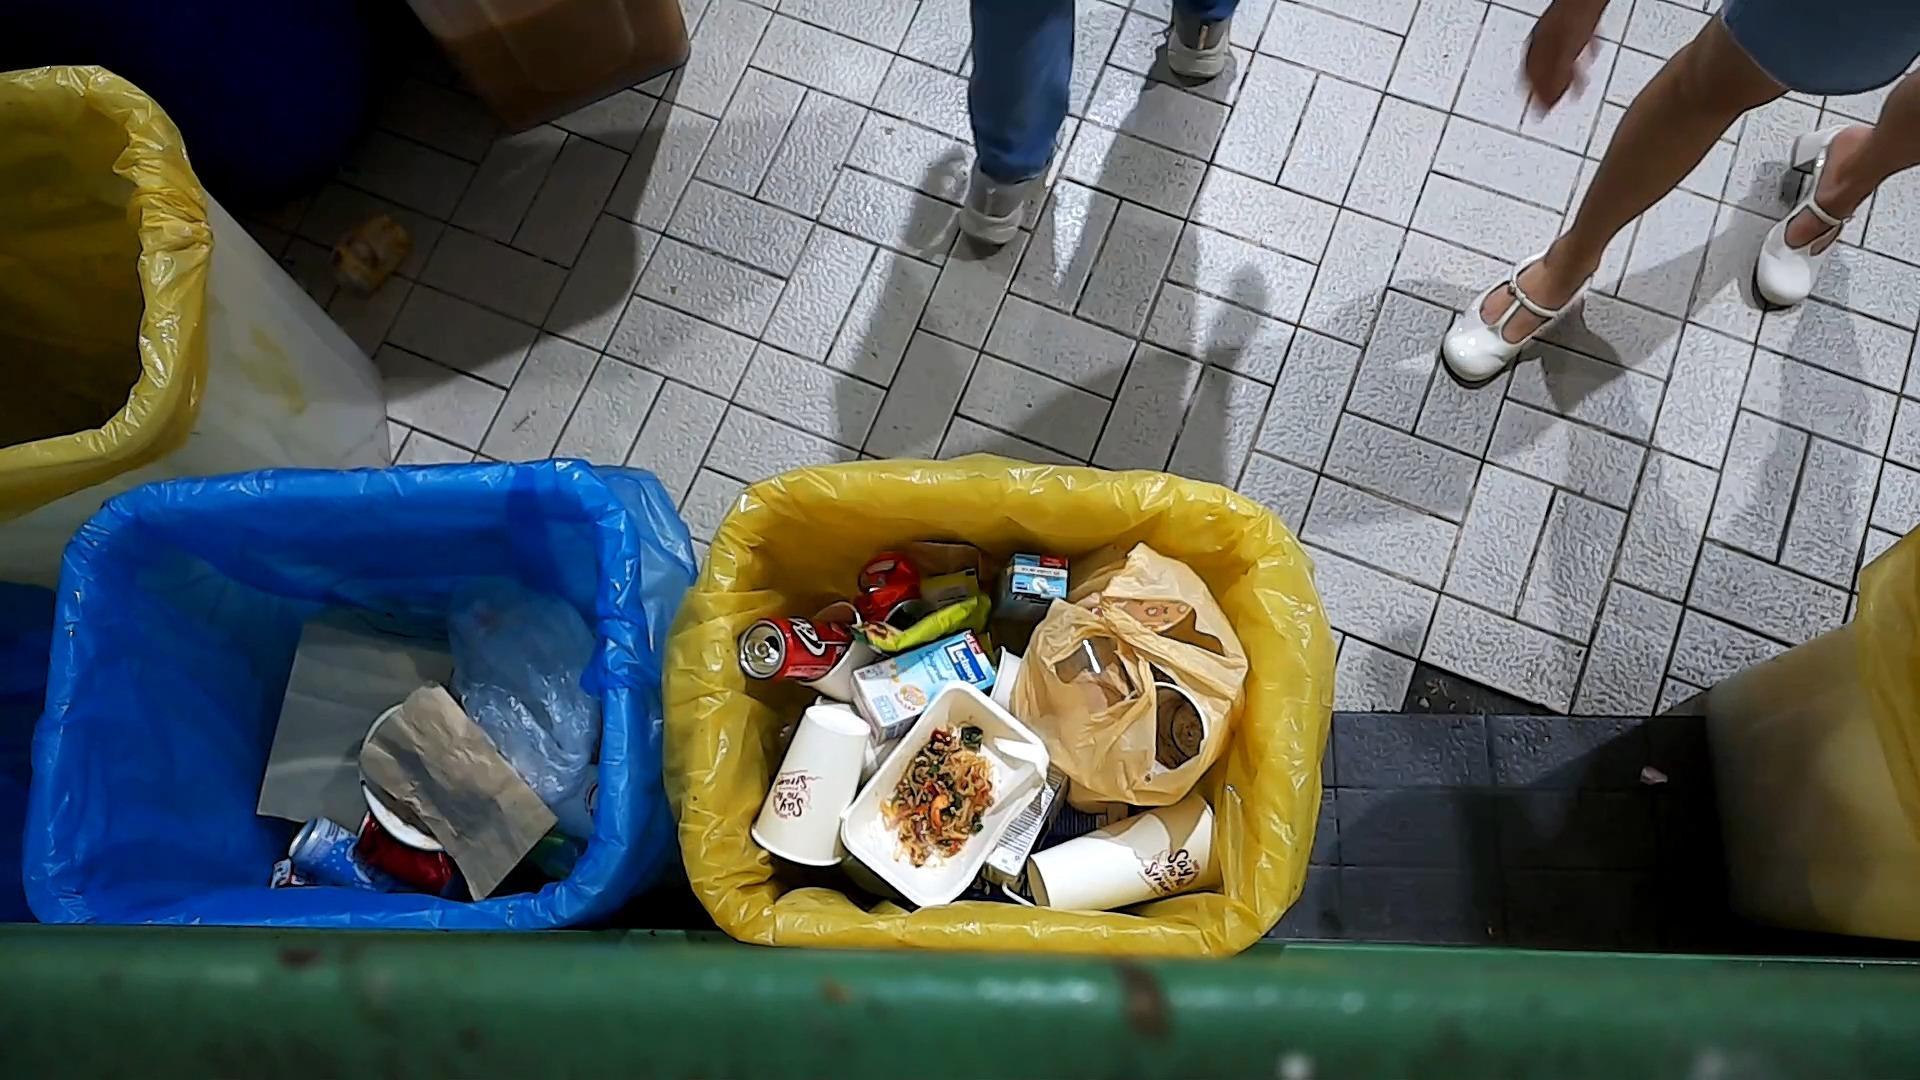can: (349, 806, 464, 898), (285, 812, 404, 895), (736, 611, 853, 686), (851, 547, 934, 633)
dirty food container: (835, 674, 1055, 910)
filled plastic bag: (1006, 538, 1255, 812)
milk carton: (847, 626, 1000, 750), (982, 761, 1073, 907), (993, 551, 1071, 633)
paper bag: (249, 617, 458, 847), (357, 676, 559, 906)
plastic bag: (442, 562, 601, 807)
snack packaging: (851, 588, 998, 657)
zero waste cup: (1023, 787, 1226, 918), (745, 703, 874, 870)
